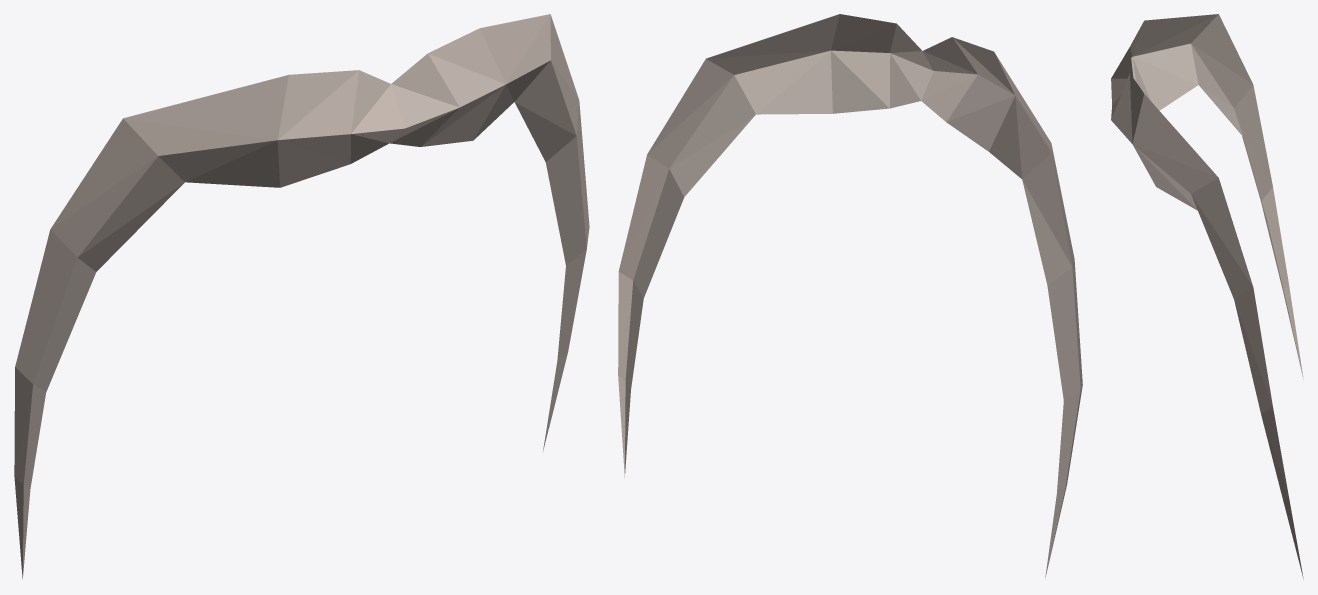
File: moustacheLongWhite.glb
The picture shows the model from 3 angles, left to right: view 1: azimuth 30°, elevation 25°; view 2: azimuth 150°, elevation 25°; view 3: azimuth 270°, elevation 25°; orthographic projection. The views are drawn at different scales.
Parts seen in each view (by area): view 1: moustacheLongWhite; view 2: moustacheLongWhite; view 3: moustacheLongWhite.
Part boxes in pixels (x1=…): moustacheLongWhite: x1=14, y1=14, x2=589, y2=579; moustacheLongWhite: x1=618, y1=14, x2=1082, y2=579; moustacheLongWhite: x1=1111, y1=14, x2=1303, y2=578.
Size of the model in its own units: 0.1036 by 0.0932 by 0.0384.
